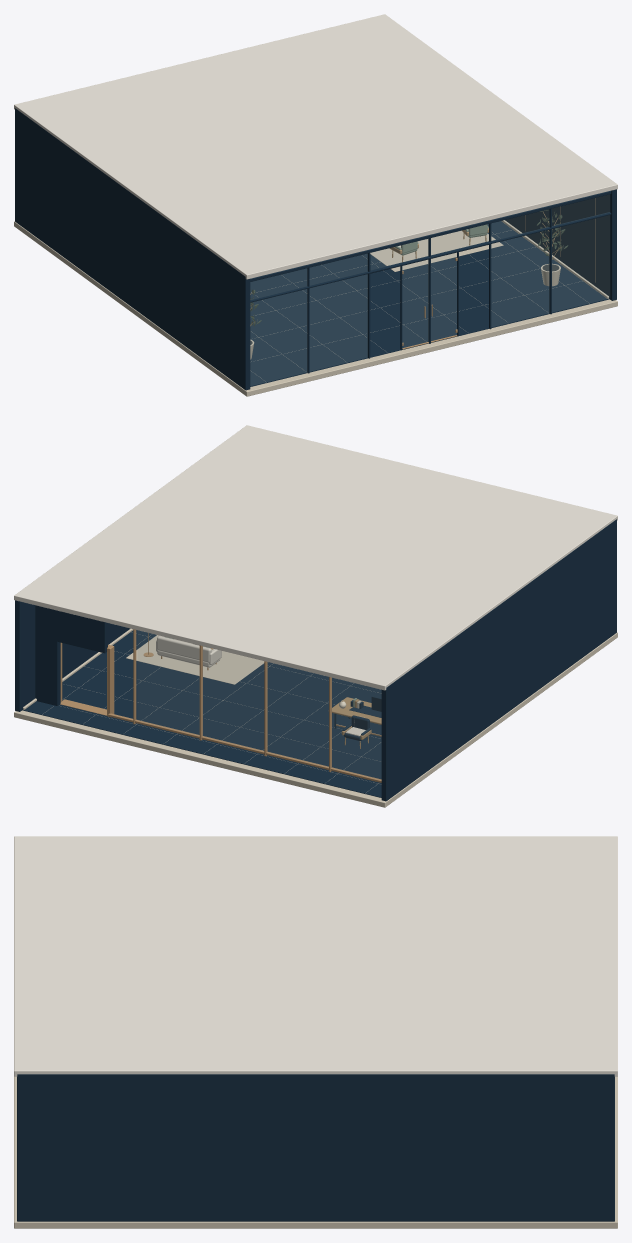
Rendered from office.glb.
3 views of the same model, one above another, from view 1: azimuth 30°, elevation 25°; view 2: azimuth 150°, elevation 25°; view 3: azimuth 270°, elevation 25° (orthographic). The views are drawn at different scales.
Visible parts, largest first — view 1: SHOWROOM · office; view 2: SHOWROOM · office; view 3: SHOWROOM · office.
Part boxes in pixels (x1,y1,x2,y2): SHOWROOM · office: (14,14,617,396); SHOWROOM · office: (14,425,617,807); SHOWROOM · office: (14,836,617,1228).
Bounding box in the file's own units: 18.41 × 5.77 × 20.
